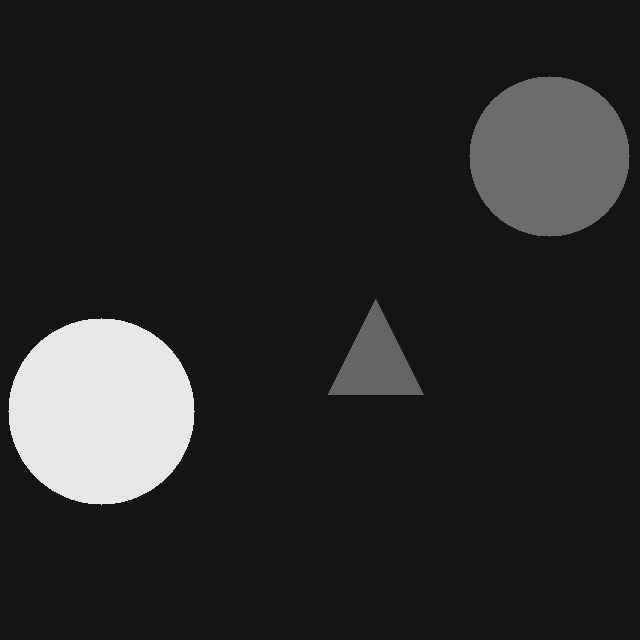circle: (8, 318, 194, 504), (469, 76, 629, 236)
triangle: (328, 299, 423, 394)
